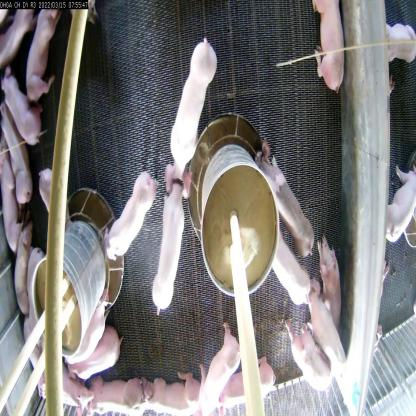Pig: (166, 30, 221, 189), (252, 148, 324, 258), (150, 183, 192, 322), (104, 168, 156, 260), (309, 226, 349, 344), (278, 308, 335, 390), (195, 315, 241, 408), (200, 360, 276, 416), (302, 286, 346, 382), (36, 350, 98, 416), (132, 364, 212, 415), (0, 60, 46, 148), (304, 0, 345, 97), (25, 5, 62, 101), (2, 101, 36, 204), (87, 369, 157, 415), (382, 157, 416, 247), (2, 141, 28, 247), (12, 222, 40, 312)
